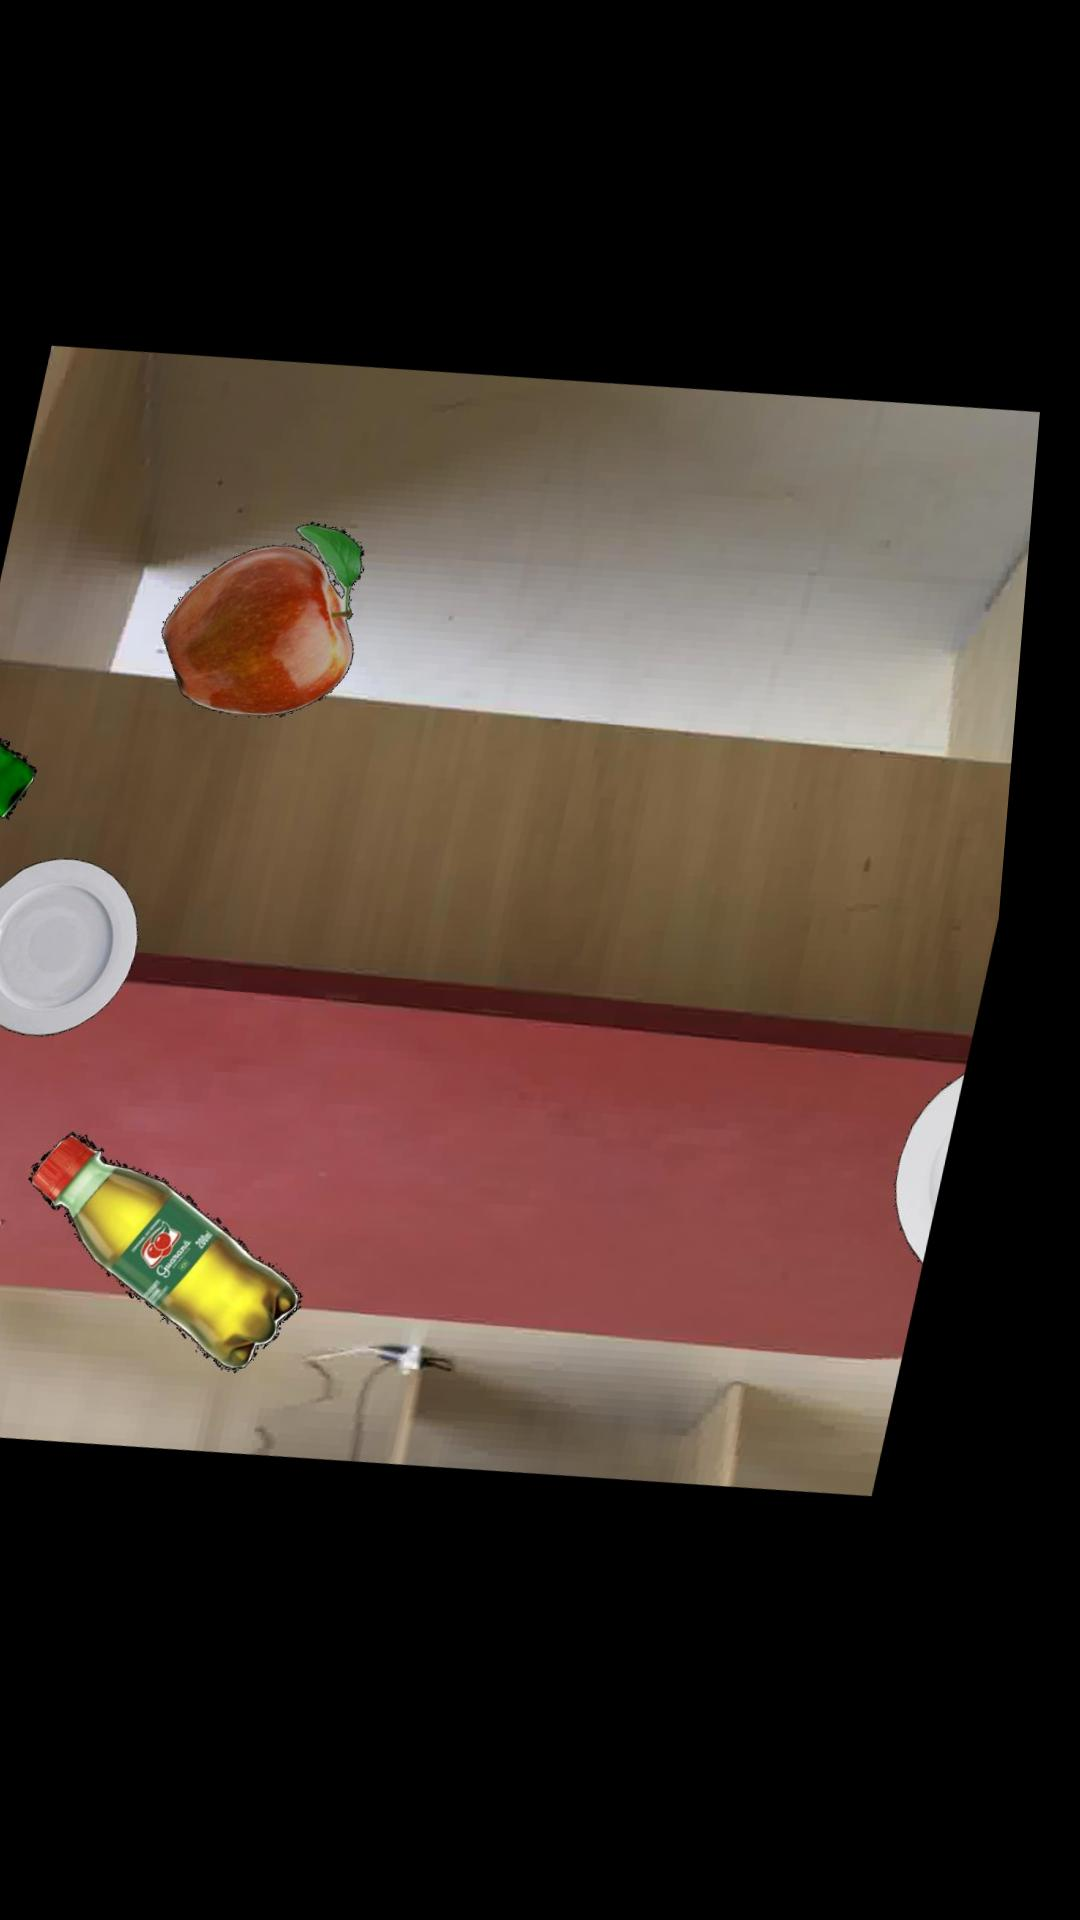apple: (173, 524, 373, 719)
cleaner: (0, 732, 49, 818)
guarana: (49, 1131, 324, 1373)
plate: (0, 857, 154, 1035)
